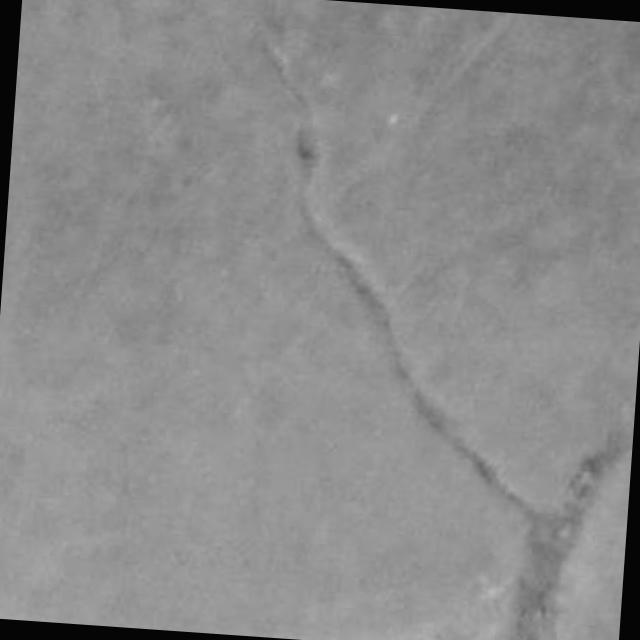crack: (261, 35, 533, 518), (296, 129, 533, 518), (512, 430, 626, 639), (416, 12, 517, 129)
